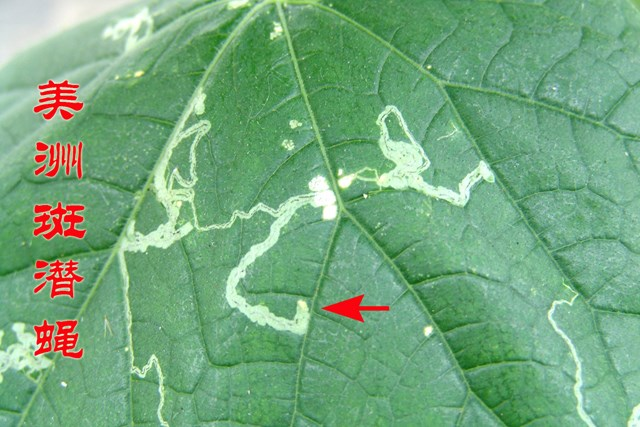liriomyza: (116, 84, 337, 427), (335, 104, 496, 210), (544, 278, 595, 427), (1, 317, 54, 389), (97, 5, 155, 51), (269, 17, 282, 41), (420, 319, 435, 337), (224, 1, 249, 10)
